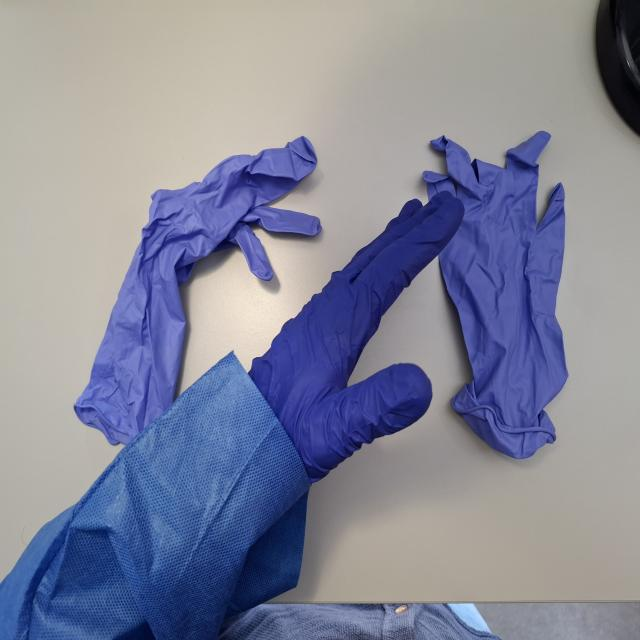glove_on: (241, 187, 468, 509)
